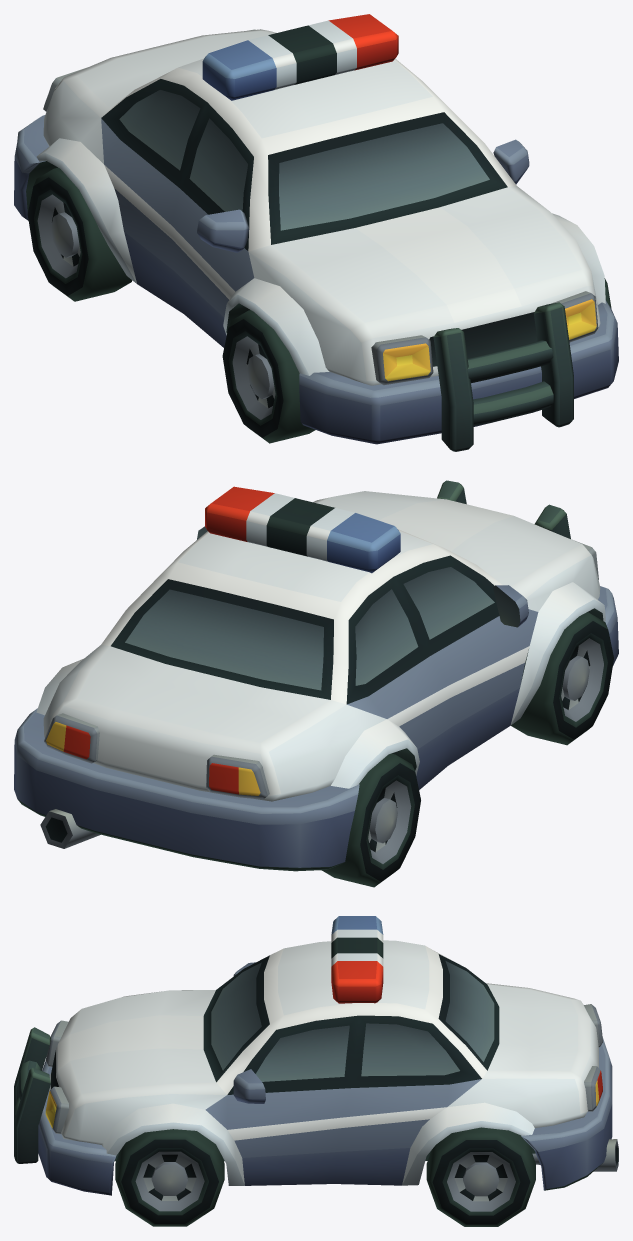
The model's file is car_police.fbx.
The picture shows the model from 3 angles, top to bottom: view 1: azimuth 30°, elevation 25°; view 2: azimuth 150°, elevation 25°; view 3: azimuth 270°, elevation 25°; orthographic projection. The views are drawn at different scales.
Parts seen in each view (by area): view 1: car_police, wheel_car_back, wheel_car_front_right; view 2: car_police, wheel_car_front_right, wheel_car_back; view 3: car_police, wheel_car_back, wheel_car_front_left.
Boxes of the visible parts, bbox=[...] form: car_police: bbox=[14, 14, 618, 451]; wheel_car_back: bbox=[27, 167, 132, 301]; wheel_car_front_right: bbox=[222, 310, 315, 443]; car_police: bbox=[14, 480, 618, 871]; wheel_car_front_right: bbox=[511, 612, 613, 745]; wheel_car_back: bbox=[321, 753, 420, 887]; car_police: bbox=[14, 916, 618, 1195]; wheel_car_back: bbox=[426, 1127, 535, 1226]; wheel_car_front_left: bbox=[115, 1129, 224, 1226].
Size of the model in its own units: 250 by 194 by 486.
Materials: 1 (1 with a texture image).
